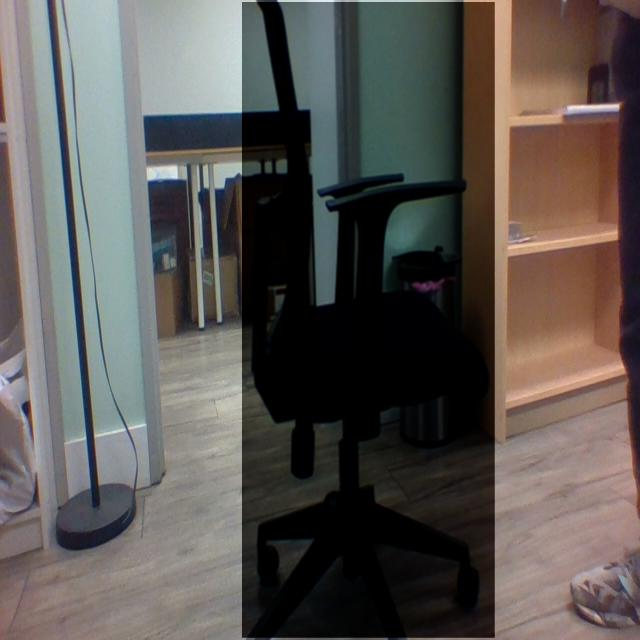black-chair: (242, 2, 496, 639)
